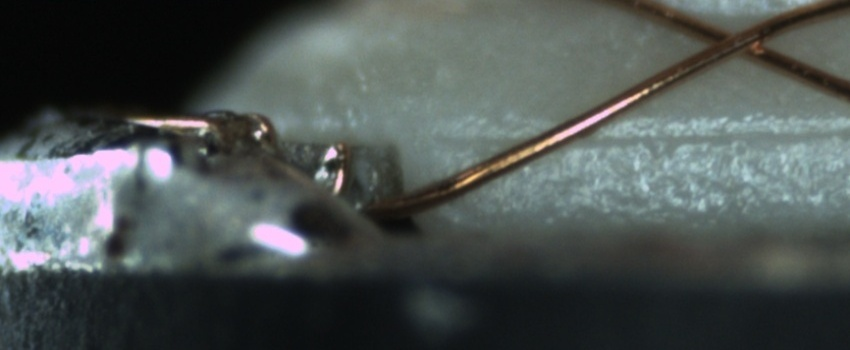CL: (690, 12, 785, 65)
DL: (424, 102, 849, 166)
TE: (120, 105, 355, 202)
